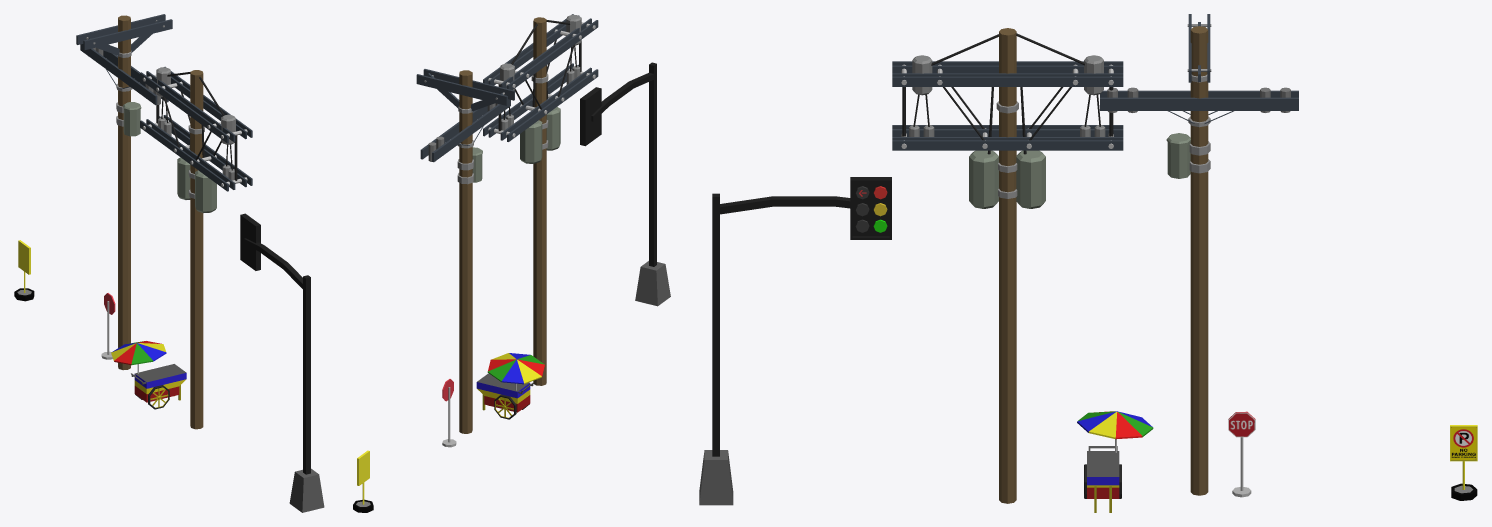
File: NoParking_Environment.glb
The picture shows the model from 3 angles, left to right: view 1: azimuth 30°, elevation 25°; view 2: azimuth 150°, elevation 25°; view 3: azimuth 270°, elevation 25°; orthographic projection. The views are drawn at different scales.
Visible parts, largest first — view 1: ElectricPole_2, ElectricPole_1, Stoplight, Vendor_1, NoParking, StopSign; view 2: ElectricPole_2, ElectricPole_1, Stoplight, Vendor_1, NoParking, StopSign; view 3: ElectricPole_2, ElectricPole_1, Stoplight, Vendor_1, NoParking, StopSign.
Boxes of the visible parts, left/top/right/bottom form: ElectricPole_2: left=140, top=66, right=252, bottom=429; ElectricPole_1: left=76, top=14, right=172, bottom=370; Stoplight: left=240, top=213, right=324, bottom=512; Vendor_1: left=111, top=341, right=186, bottom=409; NoParking: left=14, top=240, right=34, bottom=301; StopSign: left=101, top=293, right=115, bottom=359; ElectricPole_2: left=483, top=14, right=598, bottom=385; ElectricPole_1: left=416, top=69, right=514, bottom=433; Stoplight: left=580, top=62, right=670, bottom=306; Vendor_1: left=476, top=353, right=544, bottom=419; NoParking: left=353, top=450, right=373, bottom=512; StopSign: left=442, top=379, right=456, bottom=447; ElectricPole_2: left=892, top=28, right=1123, bottom=503; ElectricPole_1: left=1100, top=14, right=1298, bottom=495; Stoplight: left=699, top=177, right=891, bottom=505; Vendor_1: left=1077, top=411, right=1153, bottom=512; NoParking: left=1450, top=425, right=1477, bottom=500; StopSign: left=1228, top=411, right=1255, bottom=497.
Bounding box in the file's own units: 4.52 × 17.53 × 26.18.
Materials: 64 (2 with a texture image).
